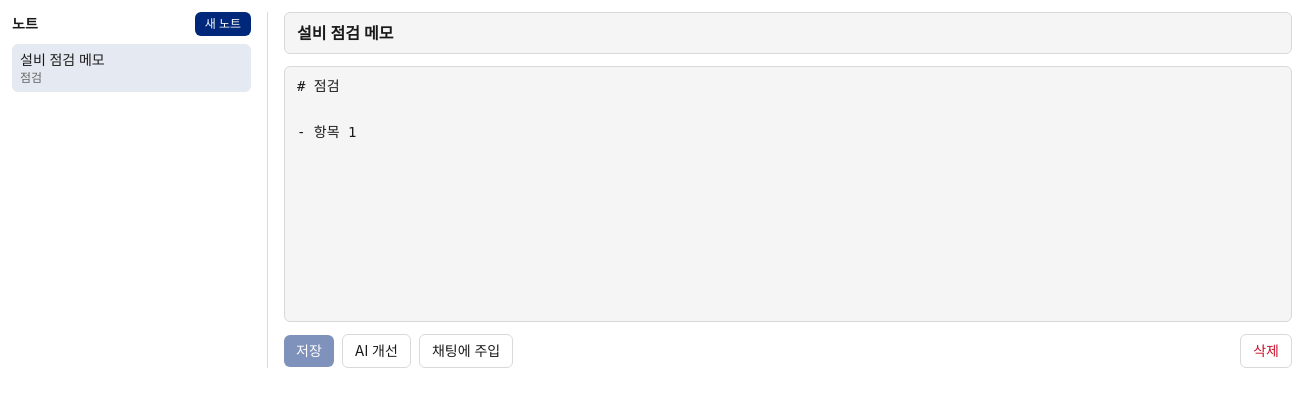
Test case: NotesWorkspace › AI 개선이 실패하면 본문을 건드리지 않고 오류를 노출한다
The image size is (1304, 417).
Expected: the field named "노트 제목" holds "설비 점검 메모", [284, 12, 1292, 54]
Click the button with test id "note-enhance": (376, 351) [342, 334, 411, 368]
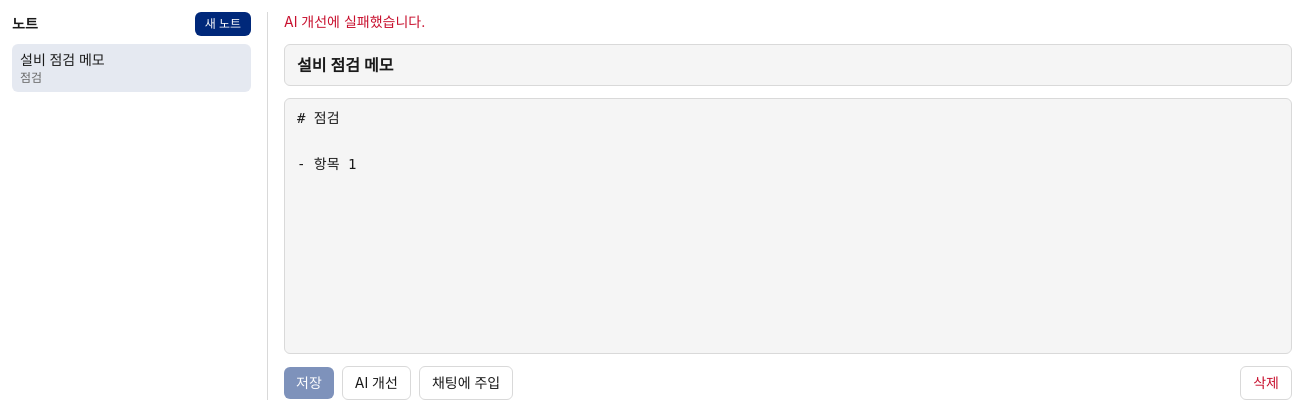
Result: the message reads "AI 개선에 실패했습니다." at [284, 13, 425, 30]
